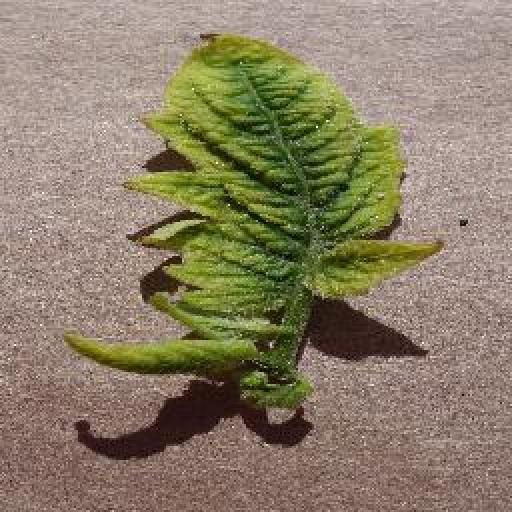Yellow Leaf Curl Virus: (126, 35, 449, 316)
